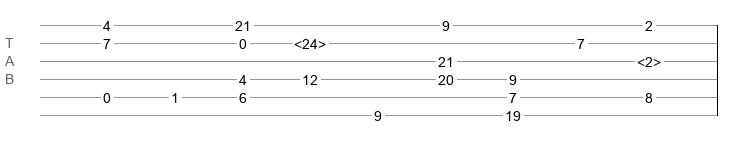0: (103, 90, 111, 100), (239, 36, 247, 46)
1: (171, 90, 179, 100)
12: (302, 72, 318, 82)
19: (505, 108, 521, 118)
2: (645, 18, 653, 28)
20: (438, 72, 454, 82)
21: (235, 18, 251, 28), (438, 54, 454, 64)
4: (103, 18, 111, 28), (239, 72, 247, 82)
6: (239, 90, 247, 100)
7: (103, 36, 111, 46), (509, 90, 517, 100), (577, 36, 585, 46)
8: (645, 90, 653, 100)
9: (374, 108, 382, 118), (442, 18, 450, 28), (509, 72, 517, 82)
harmonic: (294, 36, 326, 46), (637, 54, 661, 64)
